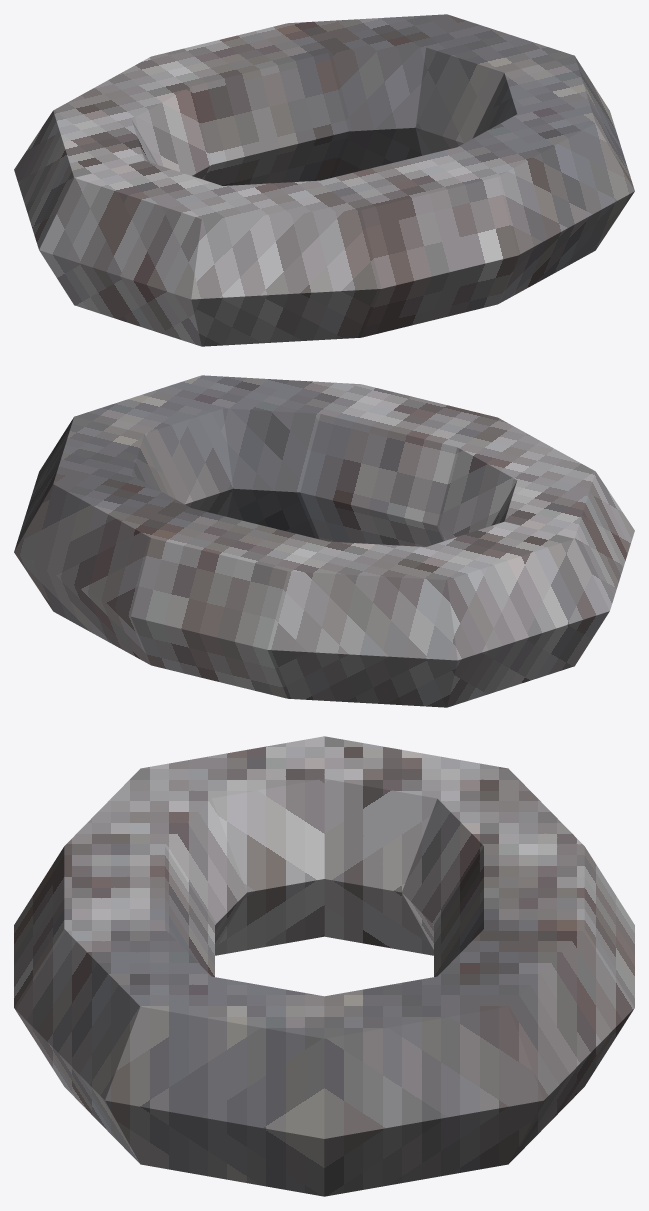
Rendered from Kette.fbx.
3 views of the same model, one above another, from view 1: azimuth 30°, elevation 25°; view 2: azimuth 150°, elevation 25°; view 3: azimuth 270°, elevation 25° (orthographic). The views are drawn at different scales.
Parts seen in each view (by area): view 1: Kette; view 2: Kette; view 3: Kette.
Part boxes in pixels (left/top/right/bottom): Kette: left=14, top=14, right=634, bottom=346; Kette: left=14, top=375, right=634, bottom=707; Kette: left=14, top=736, right=634, bottom=1196.
Size of the model in its own units: 105 by 22.4 by 79.84.
1 material, 1 textured.
